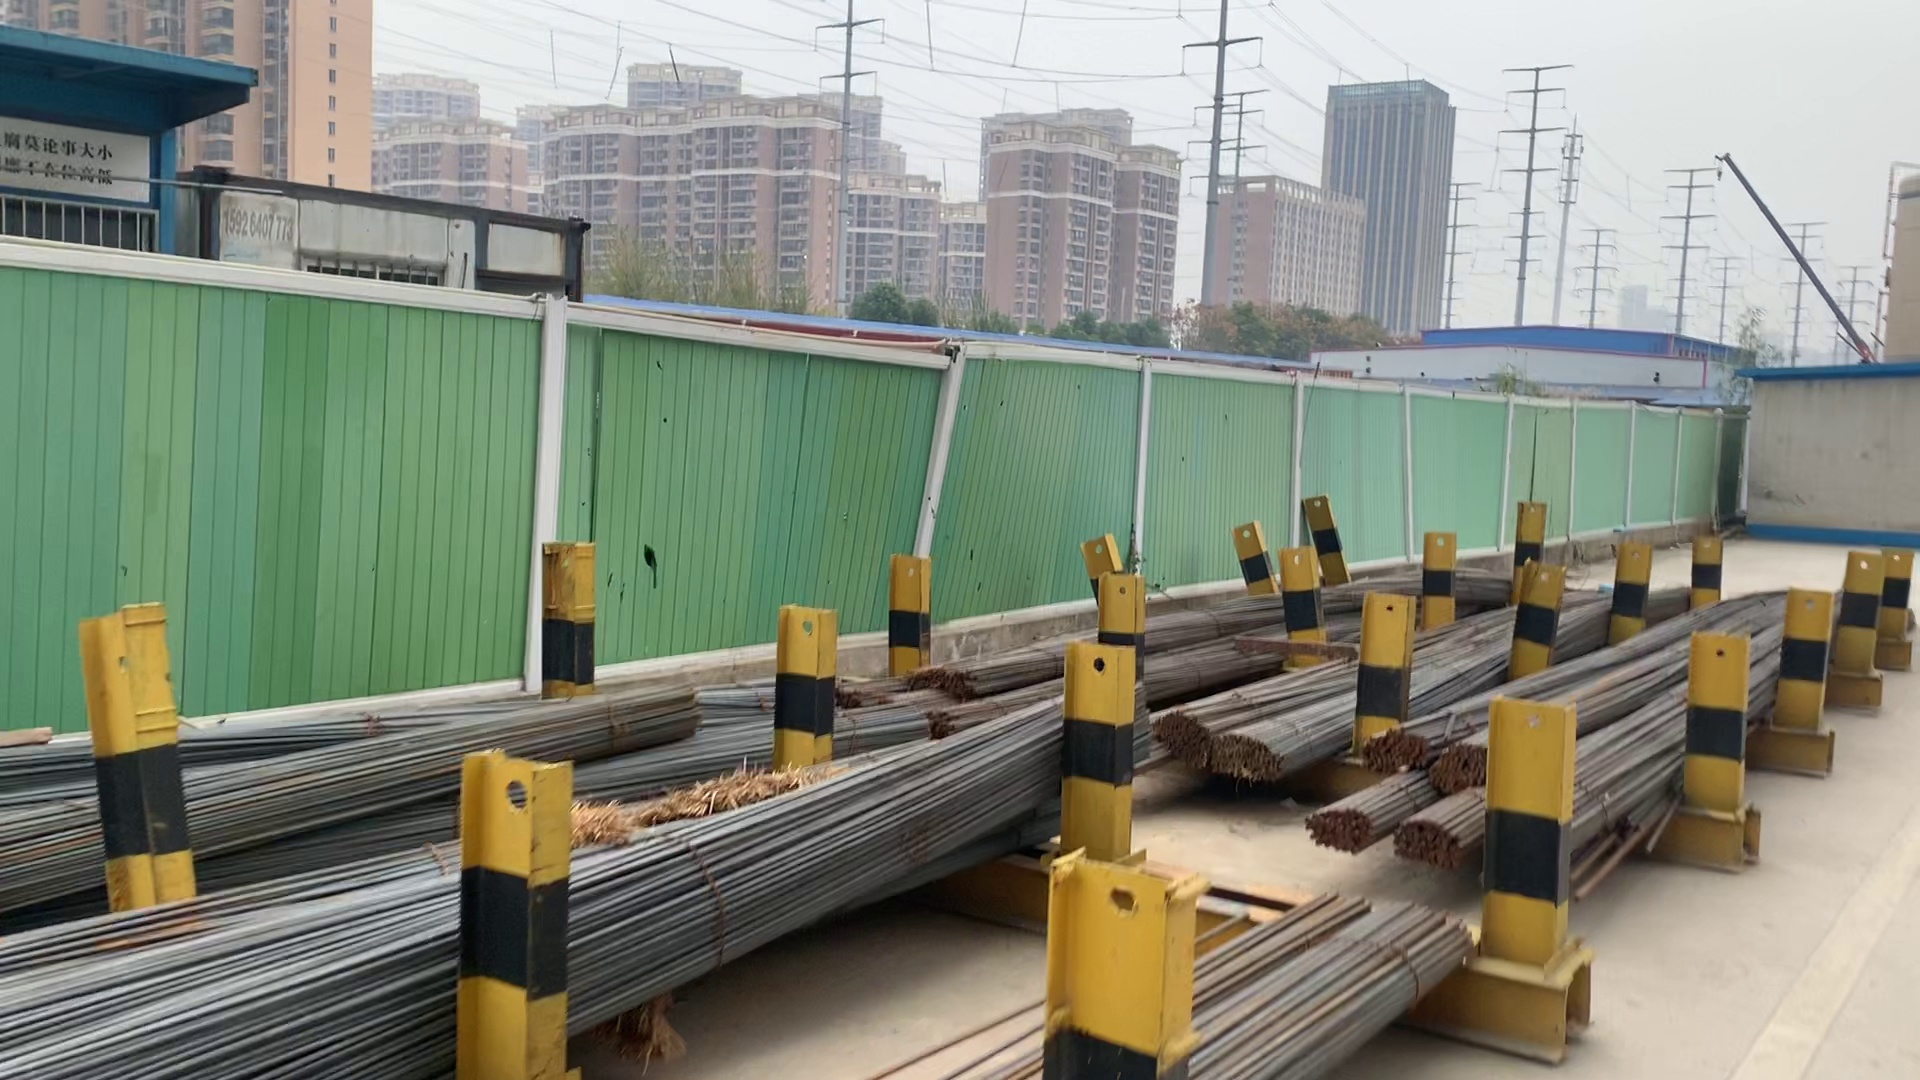rebar: (1296, 803, 1379, 853), (1212, 731, 1279, 785), (1391, 816, 1461, 868), (1361, 727, 1427, 775), (1150, 715, 1207, 770), (1431, 745, 1491, 795), (911, 662, 972, 698), (928, 708, 953, 737)
